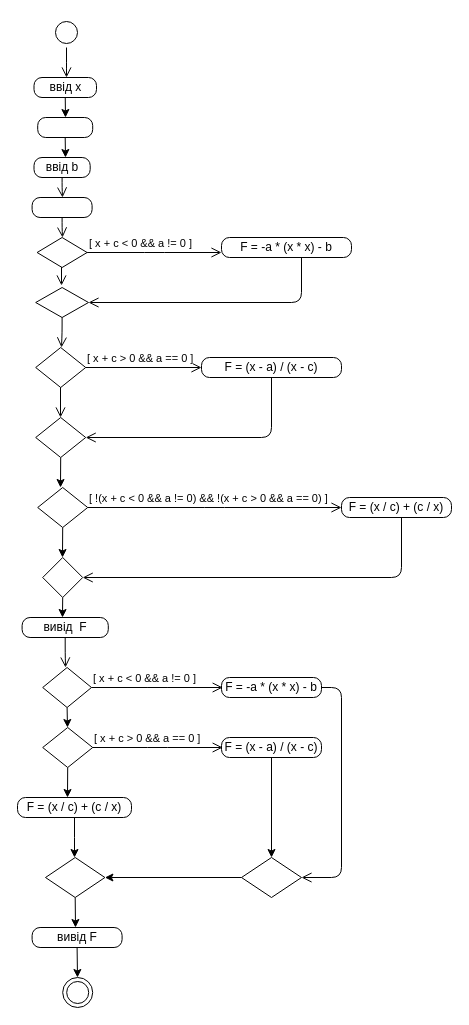
Some shapes in this 469 by 1025 pixel diagram are drawn without their labels. Here are the shapes that lost their labels. From the top down, the centre of each, then its label:
At (x=65, y=127): "ввід a".
At (x=61, y=207): "ввід c".
